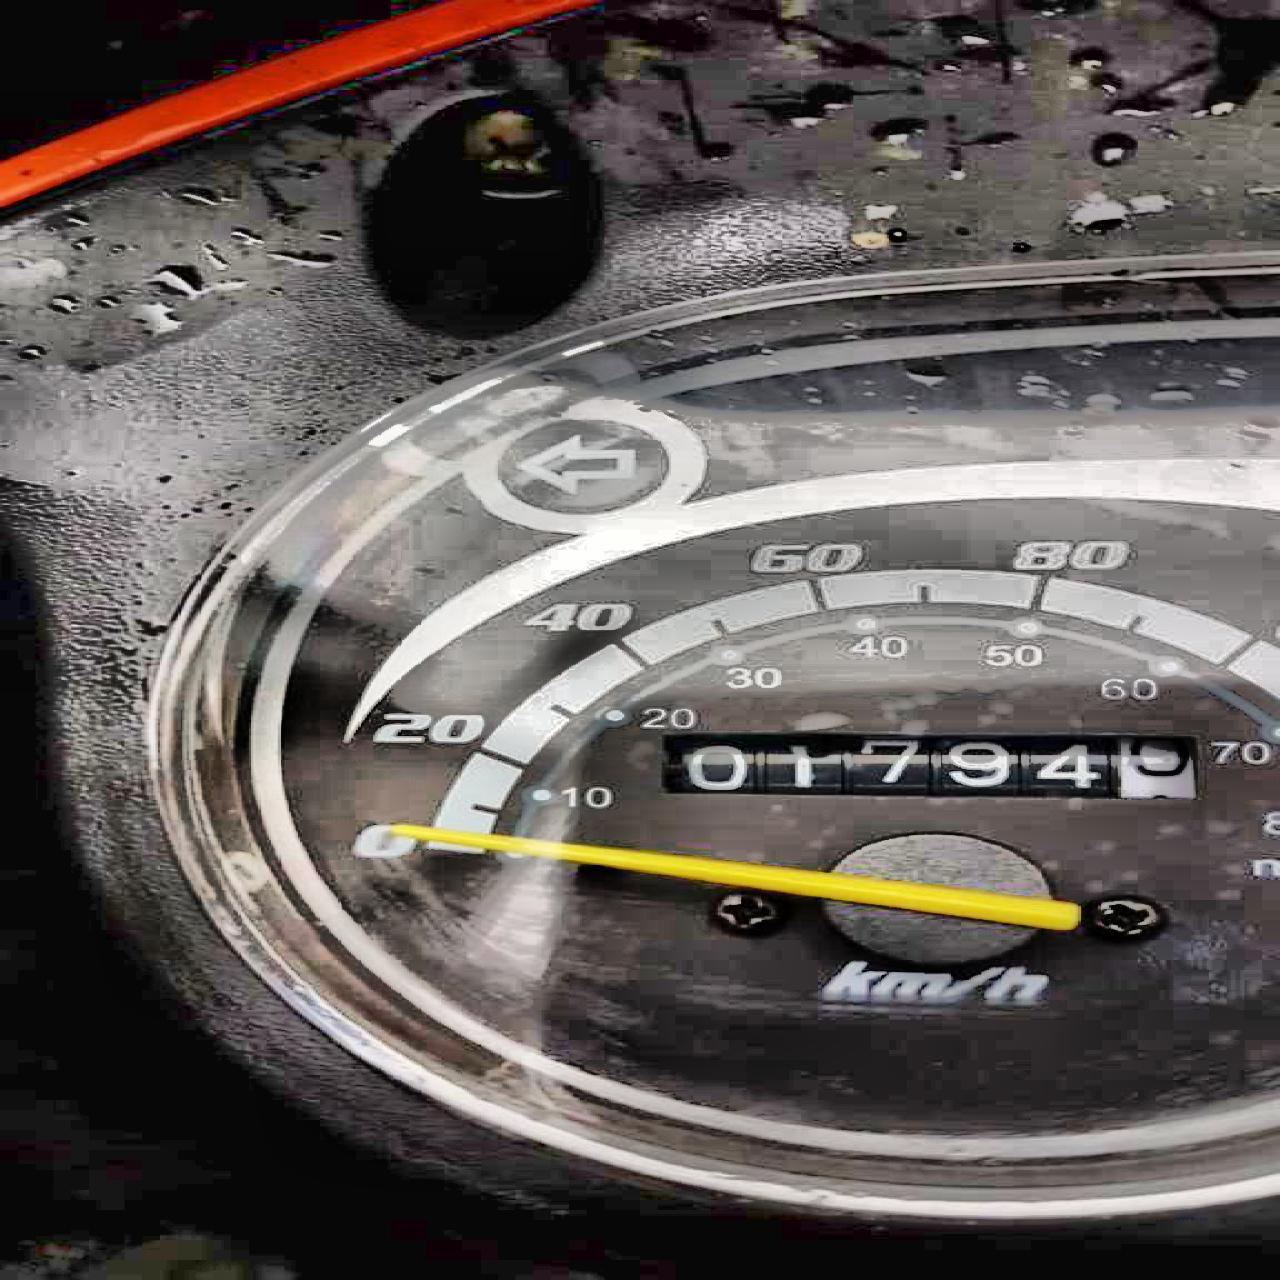0: (682, 740, 749, 795), (1126, 735, 1191, 781)
1: (783, 738, 824, 795)
4: (1036, 738, 1102, 797)
7: (858, 736, 920, 789)
9: (940, 738, 1012, 795)
odometer: (649, 733, 1211, 816)
